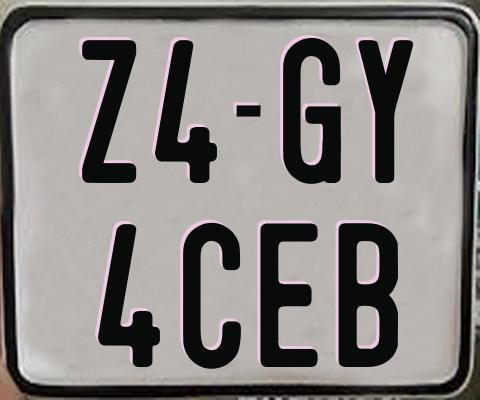4: (96, 224, 162, 372), (152, 39, 217, 187)
B: (337, 223, 400, 372)
C: (180, 223, 242, 370)
E: (258, 222, 322, 368)
G: (282, 35, 340, 182)
Y: (356, 37, 416, 184)
Z: (79, 39, 134, 184)
